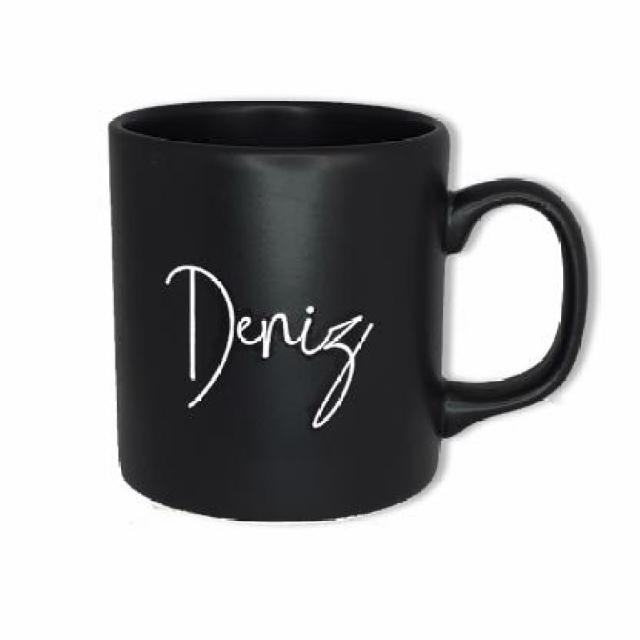taza: (105, 95, 592, 522)
